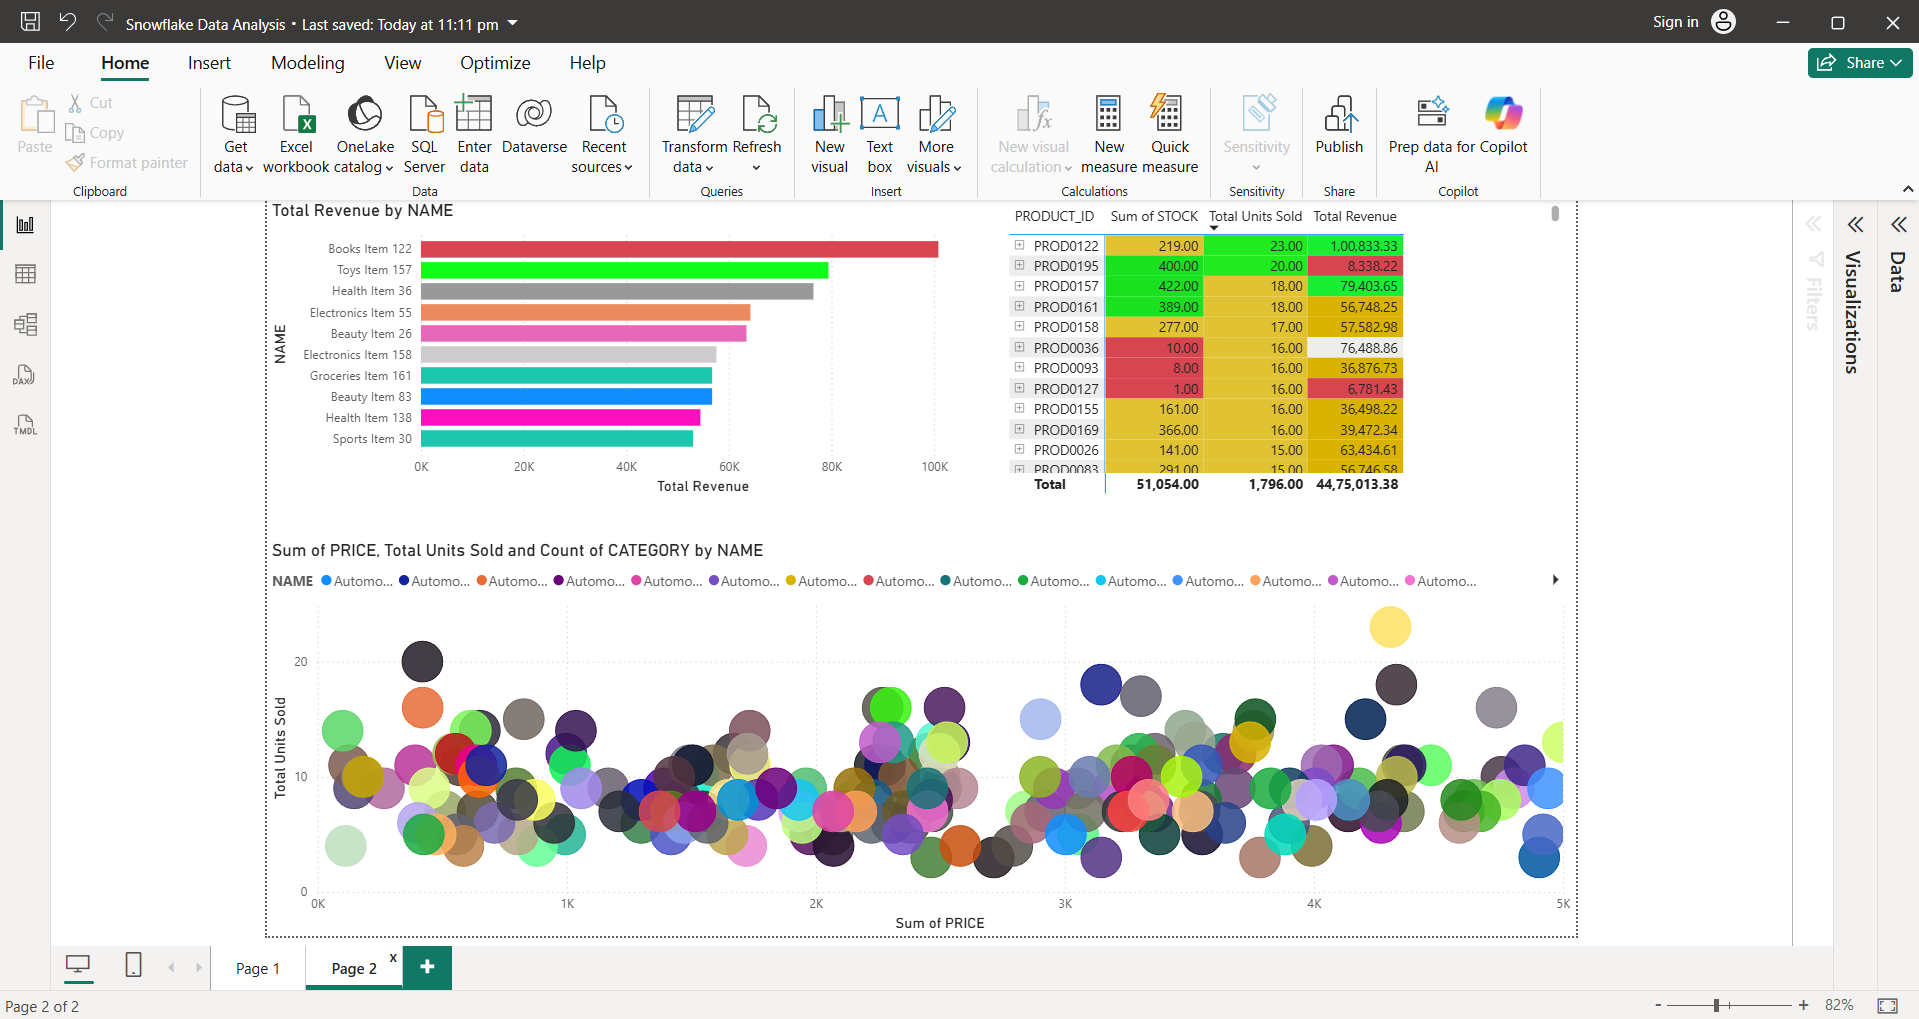

The dashboard page shown, as its layout file describes it:
{"tool":"powerbi","page":{"name":"Page 2","canvas":[1280,720],"ordinal":1},"visuals":[{"type":"clusteredBarChart","fields":{"Category":["DIM_PRODUCTS.NAME"],"Y":["DIM_CUSTOMERS.Total Revenue"]},"box":[0,0,722,292.9],"z":0},{"type":"scatterChart","fields":{"X":["Sum(DIM_PRODUCTS.PRICE)"],"Y":["DIM_CUSTOMERS.Total Units Sold"],"Size":["CountNonNull(DIM_PRODUCTS.CATEGORY)"],"Series":["DIM_PRODUCTS.NAME"]},"box":[0,332.4,1280,388.1],"z":1000},{"type":"pivotTable","fields":{"Rows":["DIM_PRODUCTS.PRODUCT_ID","DIM_PRODUCTS.NAME","DIM_PRODUCTS.CATEGORY"],"Values":["Sum(DIM_PRODUCTS.STOCK)","DIM_CUSTOMERS.Total Units Sold","DIM_CUSTOMERS.Total Revenue"]},"box":[721.6,0,548.2,292.4],"z":2000}]}

Visuals, with their boxes on the page's 1280x720 design canvas (x1, y1, x2, y2). These are canvas units, not pixel positions in the 1919x1019 screenshot, which may show the page scaled, cropped or inside an application window:
clusteredBarChart - DIM_PRODUCTS.NAME x DIM_CUSTOMERS.Total Revenue: (left=0, top=0, right=722, bottom=293)
scatterChart - Sum(DIM_PRODUCTS.PRICE) x DIM_CUSTOMERS.Total Units Sold: (left=0, top=332, right=1280, bottom=720)
pivotTable - DIM_PRODUCTS.PRODUCT_ID x DIM_PRODUCTS.NAME: (left=722, top=0, right=1270, bottom=292)
